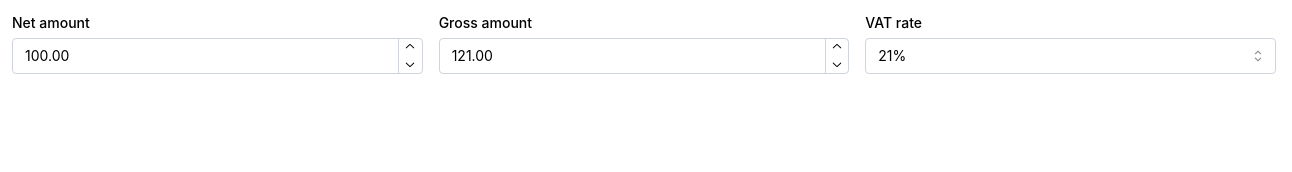
Scenario: LineItem - Optimistic State › retains value after multiple edits without prop updates
This screenshot has width=1292, height=172.
Replace the text in the field with test id "line-item-net" with "200" at (217, 56), box [12,38,423,74]
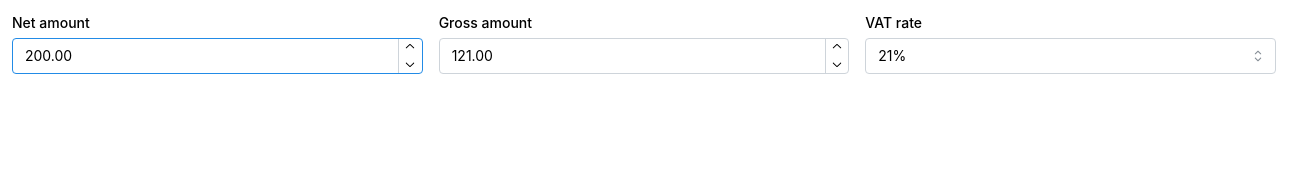
Press Tab
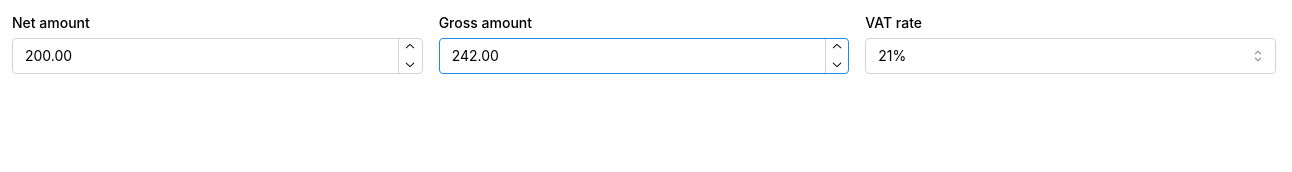
Check: the field with test id "line-item-net" holds "200.00", box [12,38,423,74]
Check: the field with test id "line-item-gross" holds "242.00"
Replace the text in the field with test id "line-item-gross" with "300" at (644, 56), box [439,38,849,74]
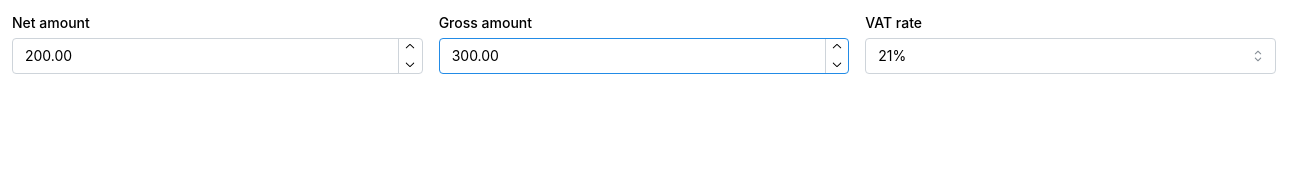
Press Tab
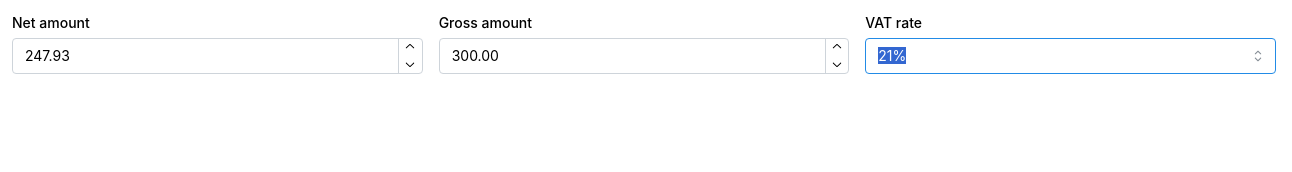
Check: the field with test id "line-item-gross" holds "300.00", box [439,38,849,74]
Check: the field with test id "line-item-net" holds "247.93", box [12,38,423,74]
